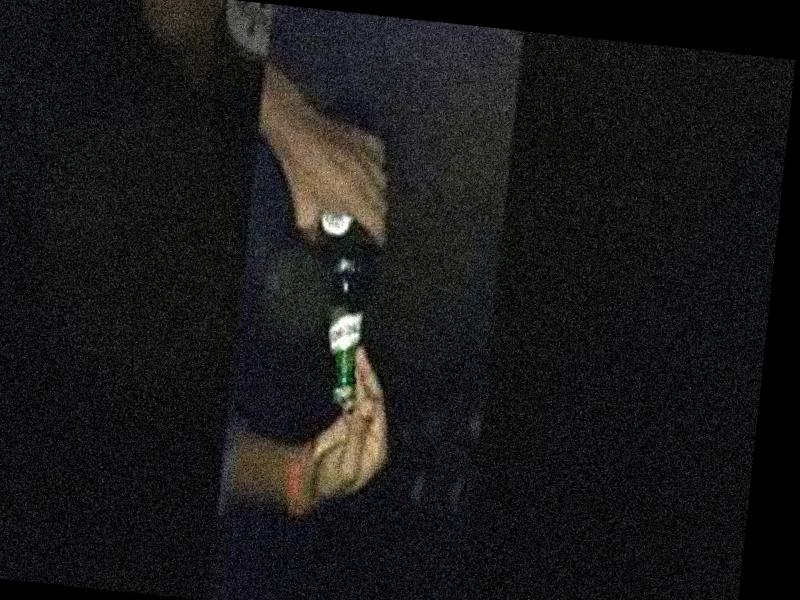Beer: (287, 98, 393, 404)
